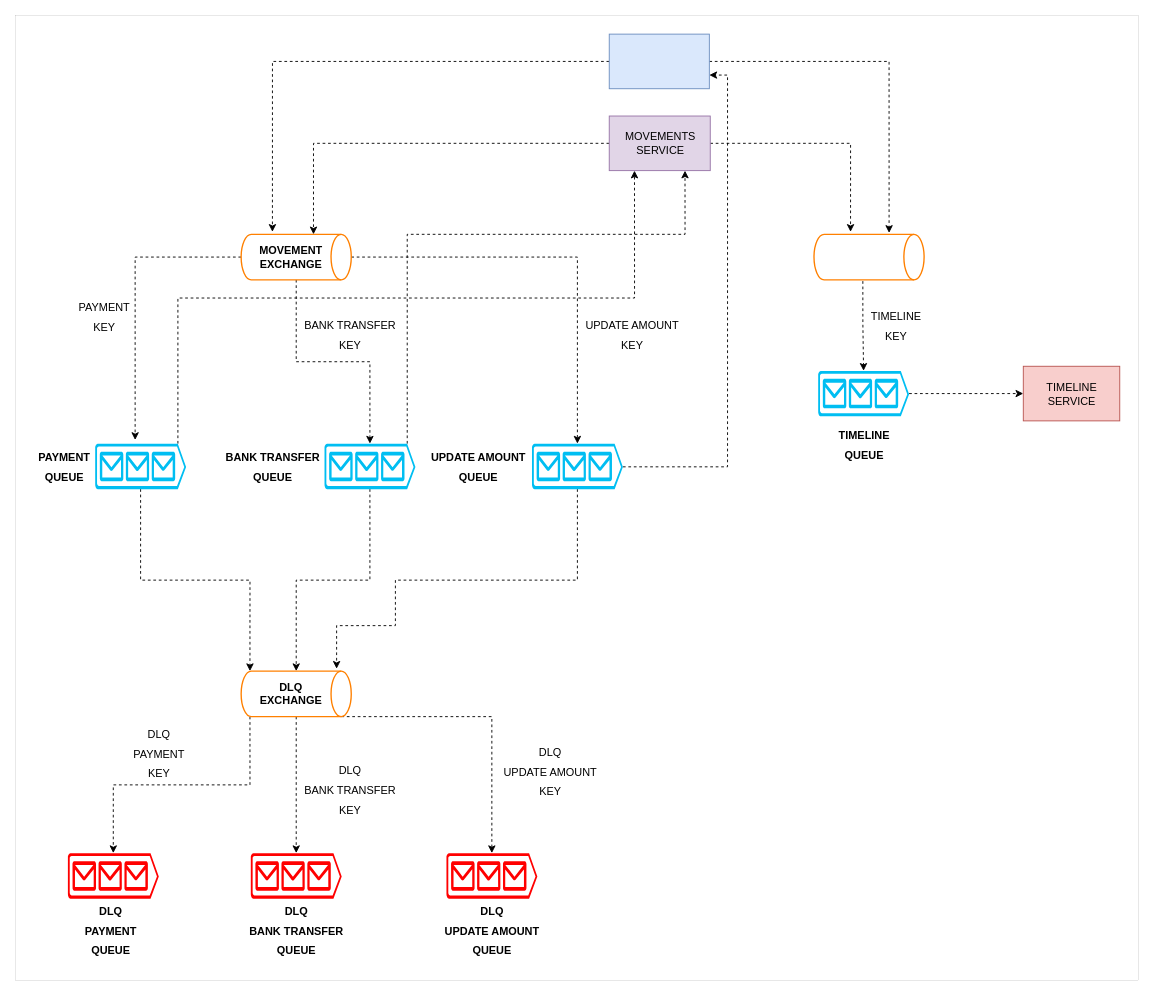
The diagram is 1154 pixels wide and 996 high, and some of its shapes have lost their labels. Each missing label, with the centre of its shape:
"TIMELINE EXCHANGE" goes at [868,256].
"WALLET SERVICE" goes at [658,61].
